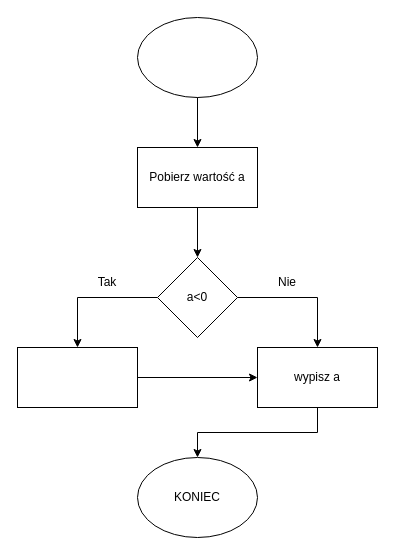
Image size: 395x555. Some labels were removed from this diagram. The shapes that lost their labels are listed below. From the top down, each one's box as (x1, y1, x2, y2) in pixels, then its label:
(136, 16, 258, 98): START
(16, 346, 138, 408): a*(-1)
